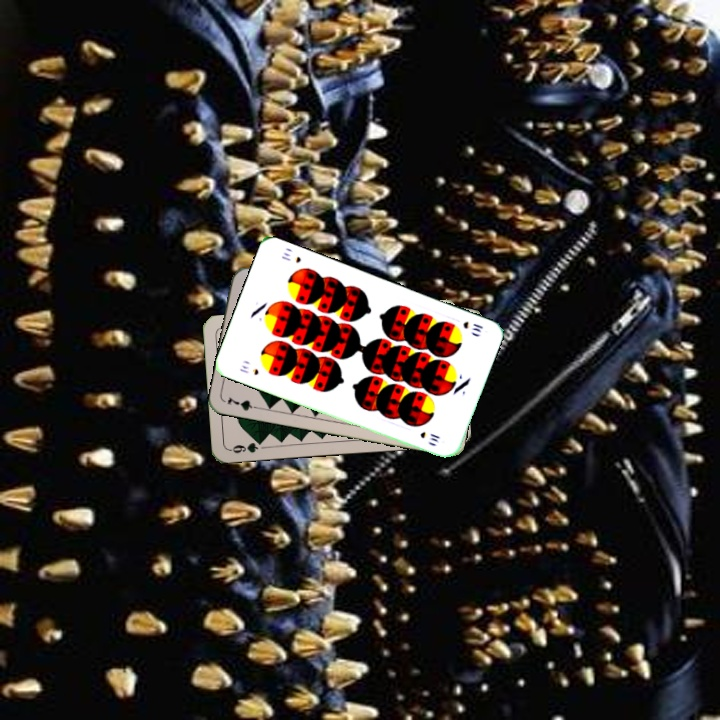G7: (223, 393, 263, 413)
G9: (226, 436, 266, 456)
S10: (459, 317, 486, 335), (235, 361, 261, 378)
